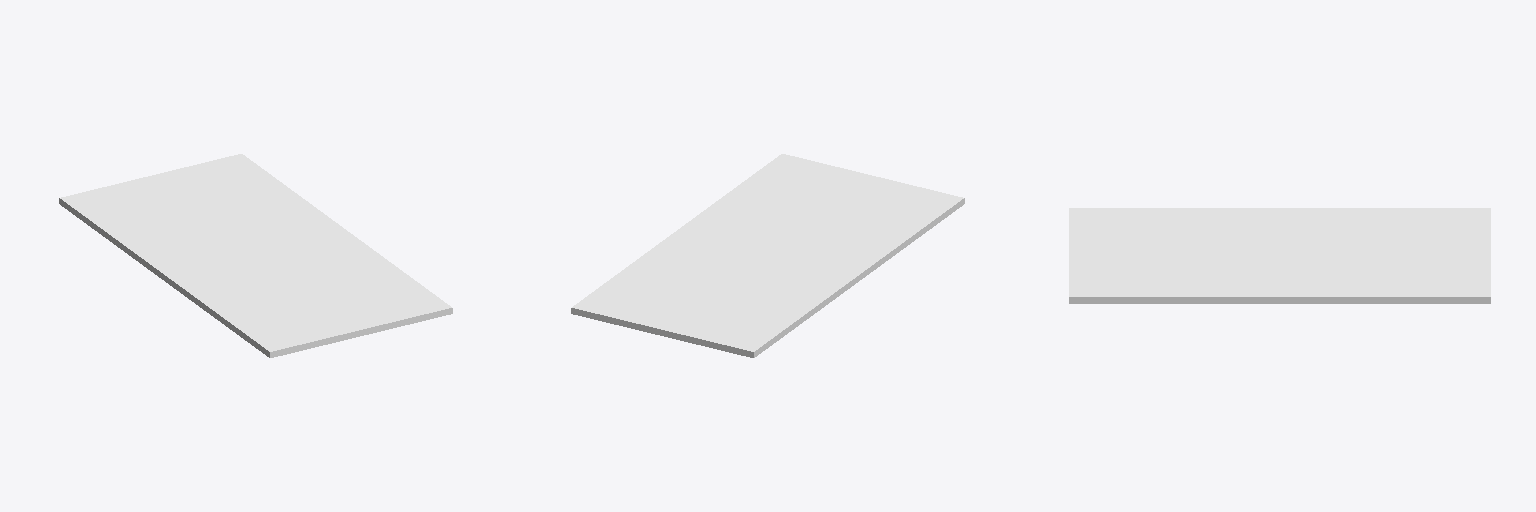
File: roads.obj
The picture shows the model from 3 angles: view 1: azimuth 30°, elevation 25°; view 2: azimuth 150°, elevation 25°; view 3: azimuth 270°, elevation 25°; orthographic projection.
Visible parts, largest first — view 1: roads; view 2: roads; view 3: roads.
Boxes of the visible parts, box(x1,y1,x2,y2) form: roads: box(59, 154, 452, 357); roads: box(571, 154, 964, 357); roads: box(1069, 208, 1490, 303).
Size of the model in its own units: 30 by 1 by 60.